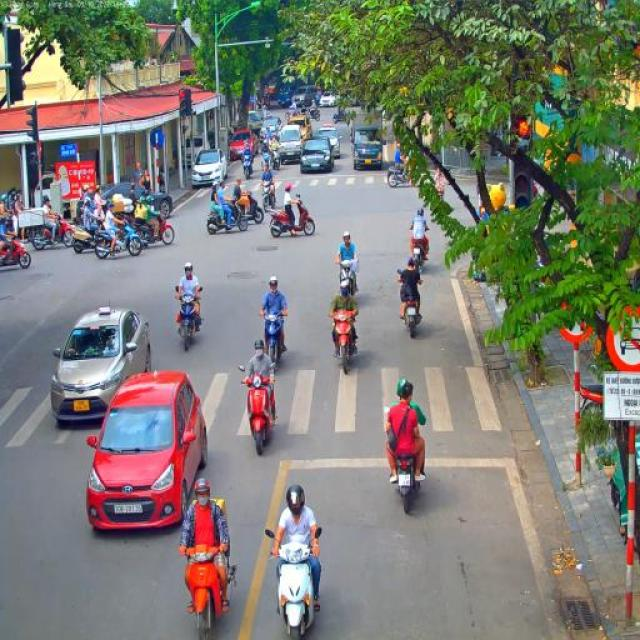car: (84, 371, 210, 537), (51, 306, 153, 426), (98, 183, 174, 225), (192, 148, 228, 190), (300, 135, 334, 174), (274, 124, 304, 166), (316, 122, 340, 160), (228, 130, 258, 160), (288, 114, 312, 144), (260, 116, 280, 145), (292, 84, 318, 106), (247, 110, 263, 134), (318, 91, 338, 107)
motorcycle: (262, 526, 324, 640), (178, 544, 238, 640), (383, 407, 428, 518), (238, 362, 280, 456), (327, 309, 359, 375), (269, 194, 316, 238), (93, 220, 143, 261), (126, 208, 176, 247), (175, 286, 205, 350), (397, 270, 423, 338), (259, 306, 286, 370), (32, 211, 76, 250), (206, 200, 249, 234), (70, 218, 110, 254), (0, 229, 32, 269), (233, 187, 265, 225), (568, 381, 606, 412), (336, 257, 360, 295), (387, 162, 415, 188), (411, 237, 427, 274), (260, 181, 278, 213), (241, 152, 254, 180), (261, 148, 271, 172), (271, 150, 281, 170), (332, 112, 347, 124), (260, 136, 270, 153), (308, 107, 322, 119), (284, 108, 297, 120), (300, 109, 310, 122)
truck: (350, 110, 386, 170), (277, 80, 298, 106), (267, 88, 279, 108)
